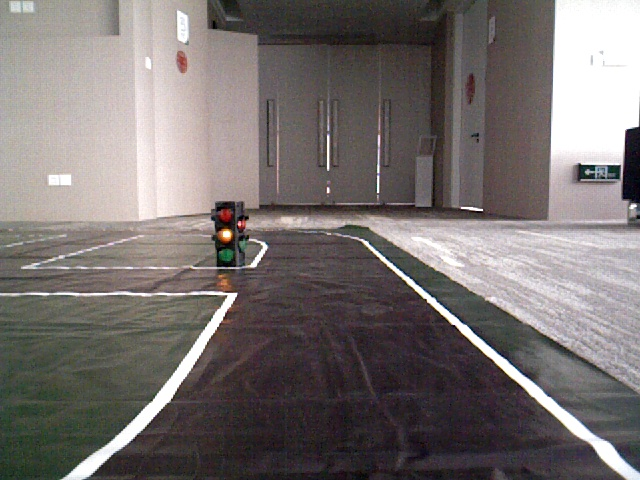yellow: (214, 202, 237, 260)
